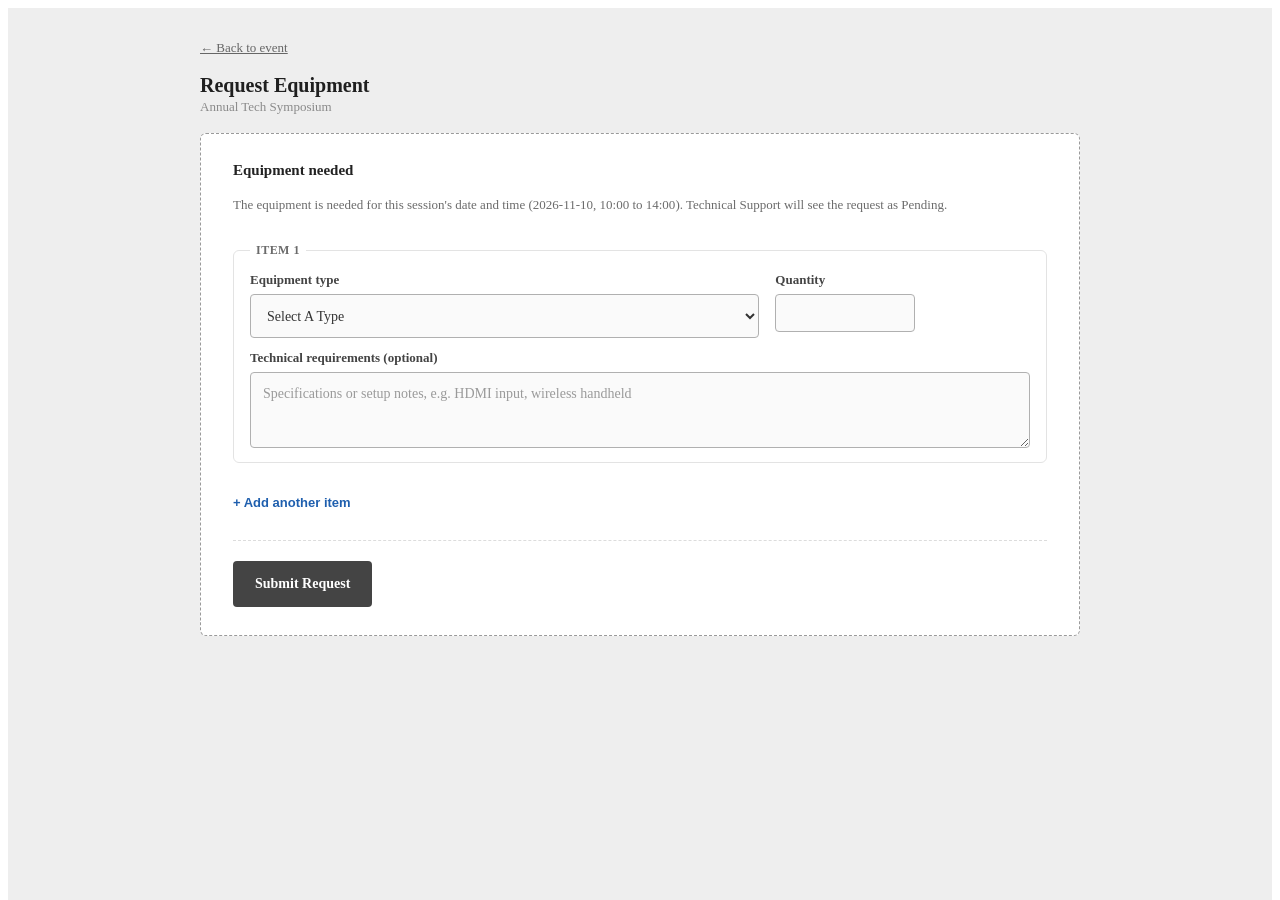
Test: RequestEquipmentView › blocks submit when no type is chosen
Type "2" into the number field labelled "Quantity" at point(845, 313), box [775,294,915,332]
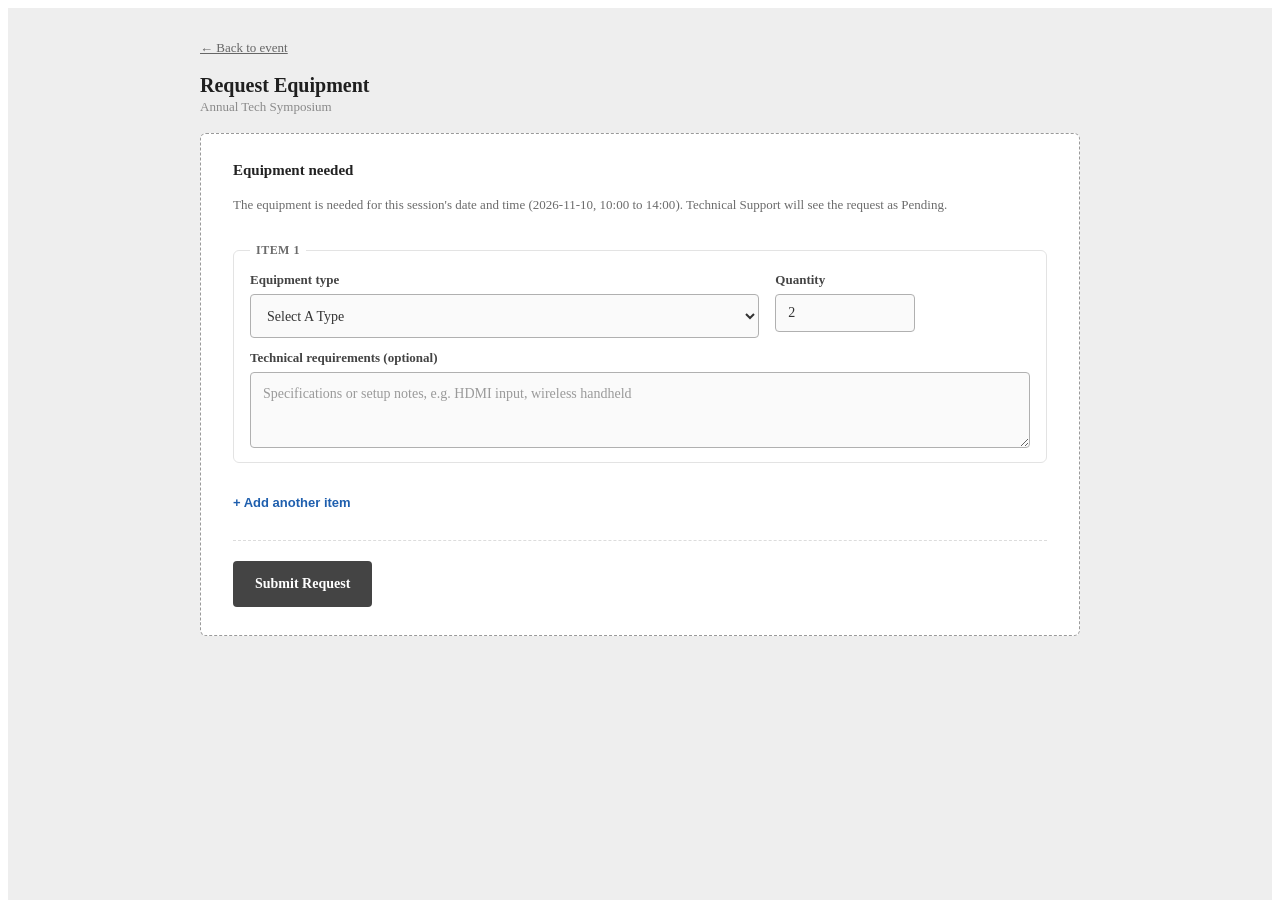
Submit the form, box [200,133,1080,636]
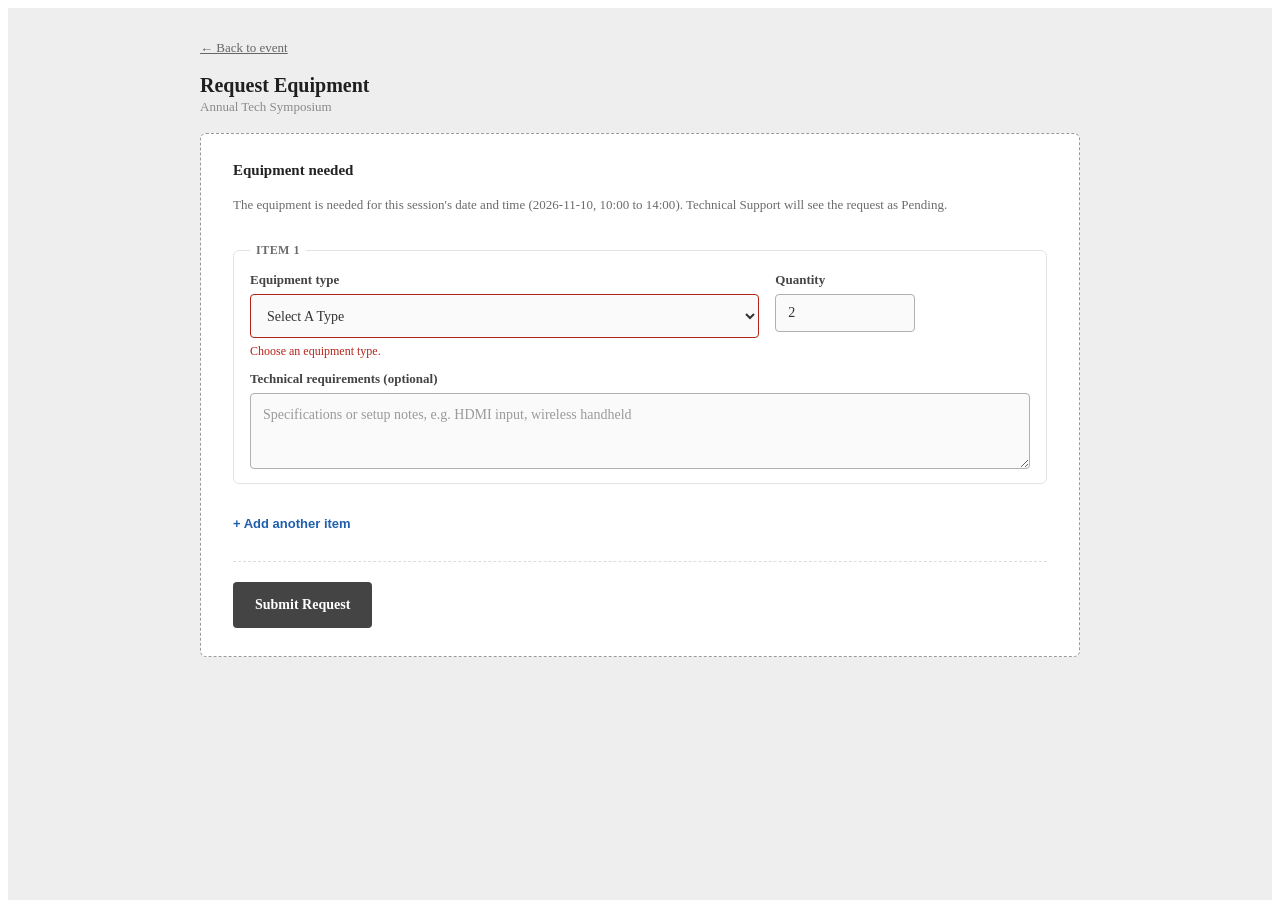
Now the text "Choose an equipment type." is shown, box [250,344,381,358]
